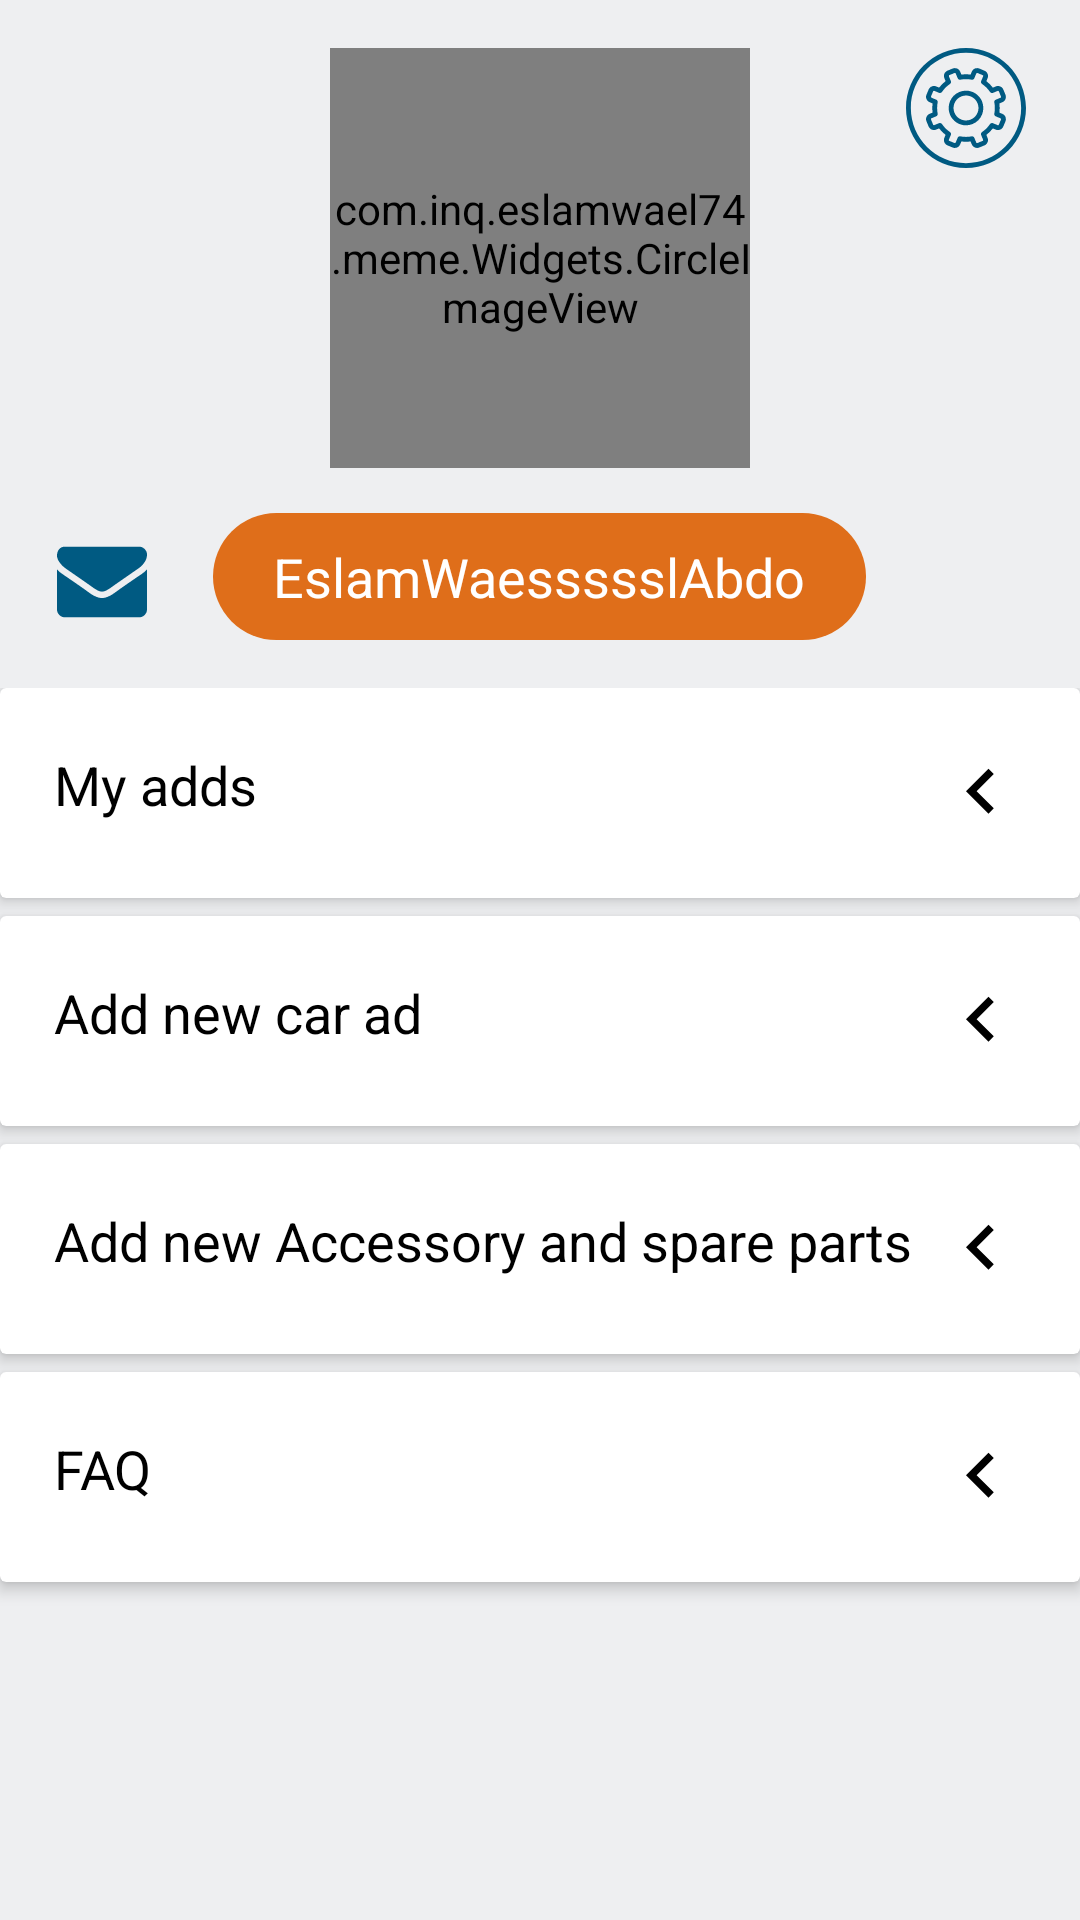

Named icons in this screenshot (1080px x 1920px) and their centers, point (x, y):
arrow: point (980, 791), point (980, 1019), point (980, 1247), point (980, 1475)
message: point (102, 582)
settings gear: point (966, 108)
